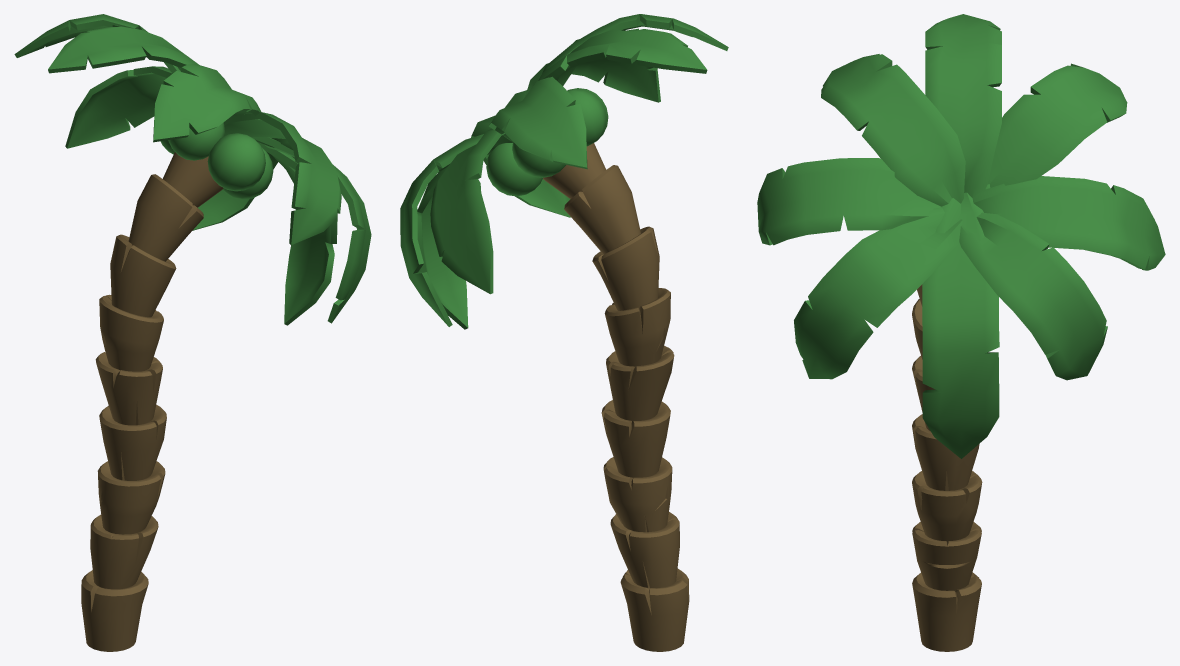
File: PalmSwine.fbx
3 renders of one model, left to right at view 1: azimuth 30°, elevation 25°; view 2: azimuth 150°, elevation 25°; view 3: azimuth 270°, elevation 25°, orthographic. The views are drawn at different scales.
Visible parts, largest first — view 1: M_PalmSwine; view 2: M_PalmSwine; view 3: M_PalmSwine.
Part boxes in pixels (bbox=[...]): M_PalmSwine: bbox=[14, 14, 371, 651]; M_PalmSwine: bbox=[400, 14, 728, 651]; M_PalmSwine: bbox=[757, 14, 1165, 651].
Bounding box in the file's own units: 828 × 1715 × 1030.
